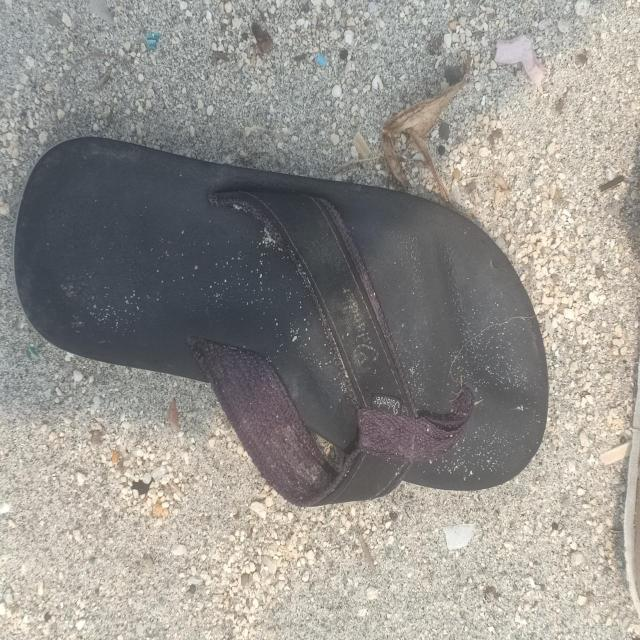rubber_waste: (11, 135, 552, 509)
